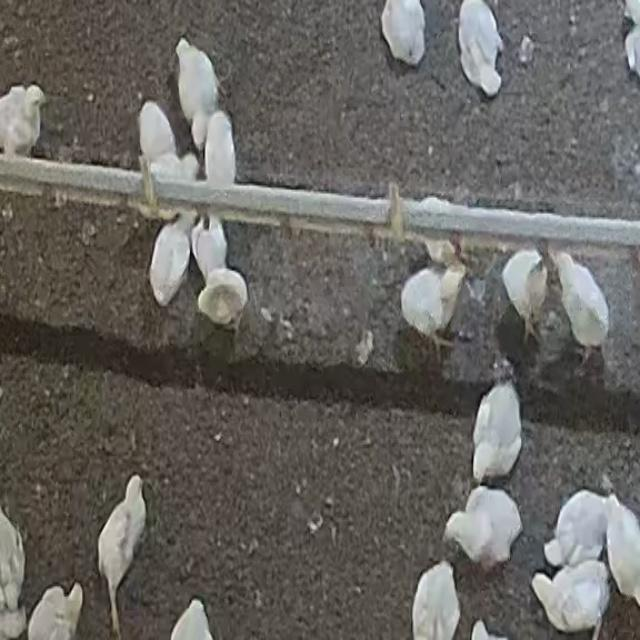chicken: (94, 467, 153, 639), (441, 484, 525, 575), (397, 259, 468, 363), (527, 559, 613, 640), (556, 251, 614, 367), (539, 481, 610, 572), (470, 378, 526, 483), (498, 248, 551, 350), (174, 35, 219, 150), (148, 208, 196, 314), (408, 558, 464, 640), (198, 269, 254, 343)
